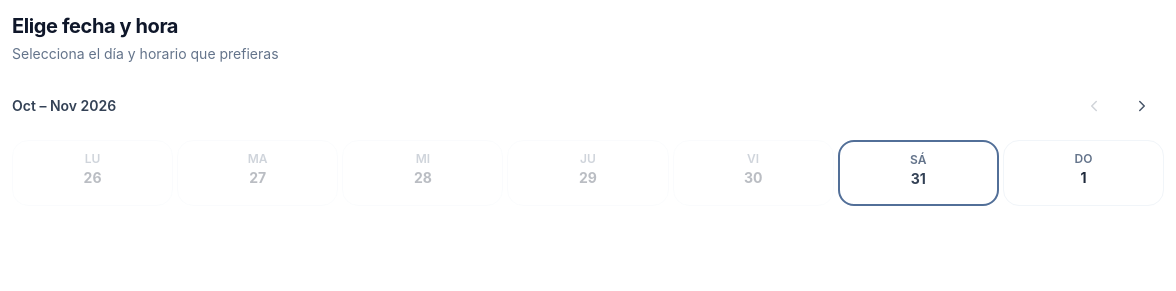
Test: PasoFechaHora › shows loading spinner after a date is selected while the week loads
Click the button "Sá 31" at (918, 173), box [838, 140, 999, 206]
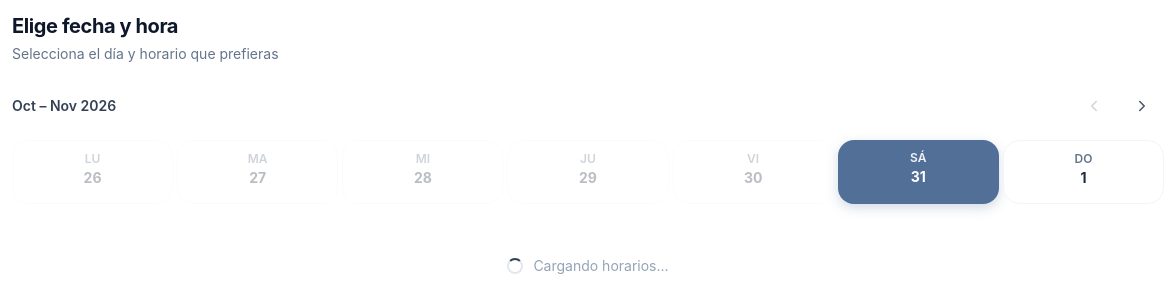
Expected: the text "Cargando horarios…" is shown, [507, 257, 669, 274]
